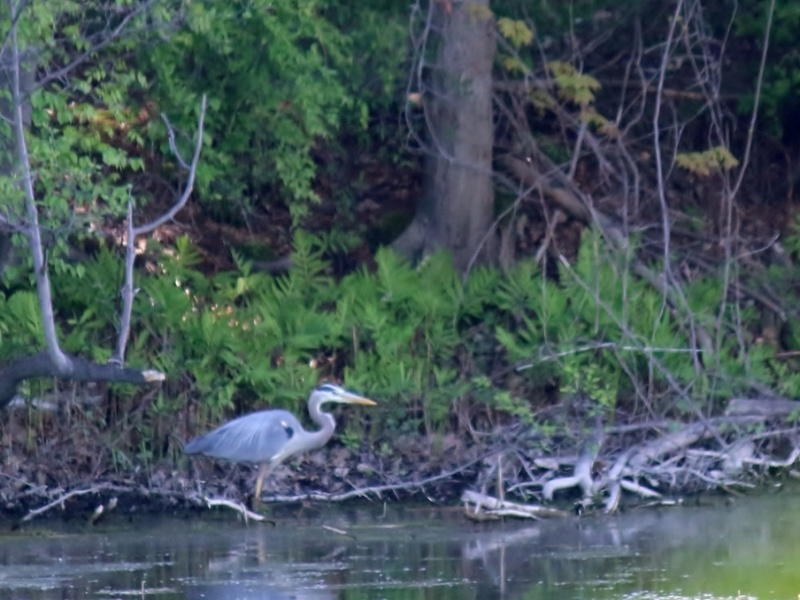heron: (183, 380, 378, 503)
